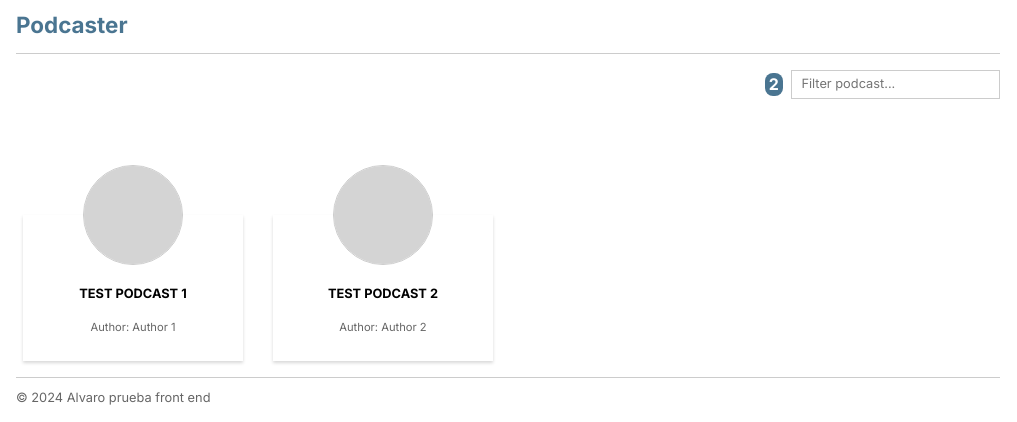
it: Filtrado podcasts › Filtra podcasts correctamente por titulo
This screenshot has width=1017, height=422.
Expected: the heading "Test Podcast 1" is shown, x1=79 y1=287 x2=187 y2=302
# Simular escribir en el input de filtro el titulo
Type "Test Podcast 1" into the field with placeholder "Filter podcast..." at point(895, 85), box x1=791 y1=70 x2=1000 y2=99
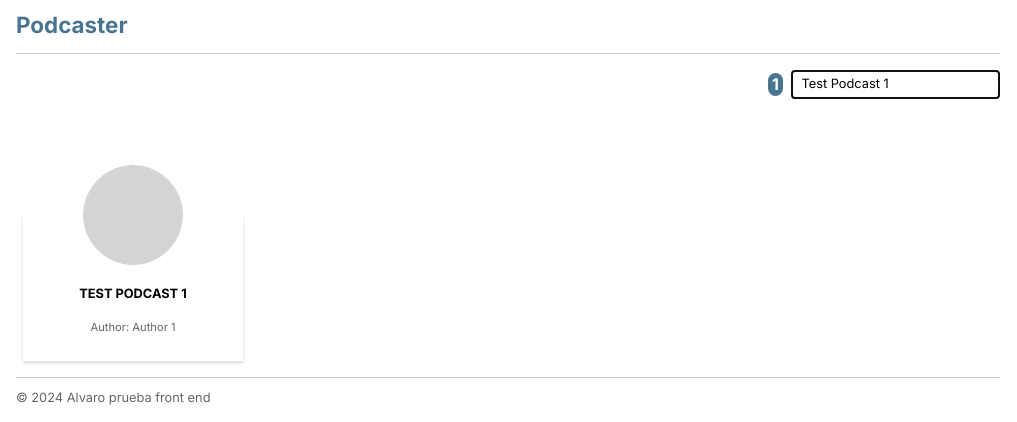
Expected: the heading "Test Podcast 1" is shown, x1=79 y1=287 x2=187 y2=302
Result: the link "Test Podcast 2" is gone
